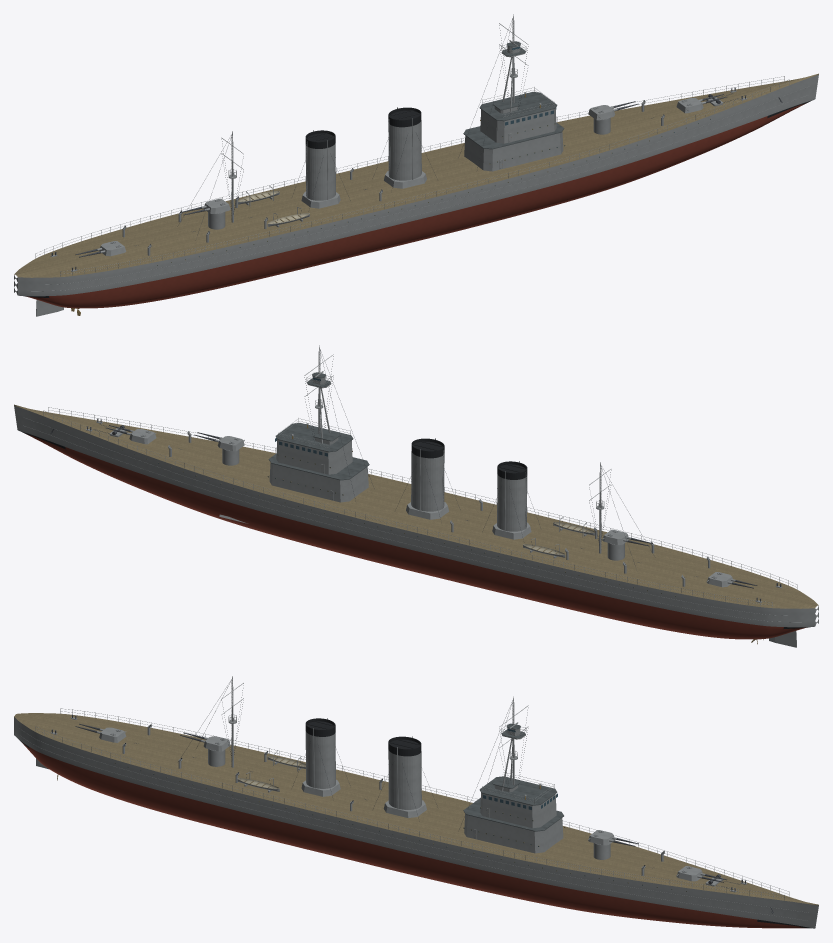
Rendered from fallback-cl.glb.
3 renders of one model, top to bottom at view 1: azimuth 30°, elevation 25°; view 2: azimuth 150°, elevation 25°; view 3: azimuth 330°, elevation 25°, orthographic.
Parts seen in each view (by area): view 1: Original CL custom-design concept; view 2: Original CL custom-design concept; view 3: Original CL custom-design concept.
Boxes of the visible parts, x1,y1,x2,y2 form: Original CL custom-design concept: (14,14,818,316); Original CL custom-design concept: (14,345,818,647); Original CL custom-design concept: (14,676,818,928).
Size of the model in its own units: 156 by 34.94 by 16.49.
Materials: 9 (8 with a texture image).
